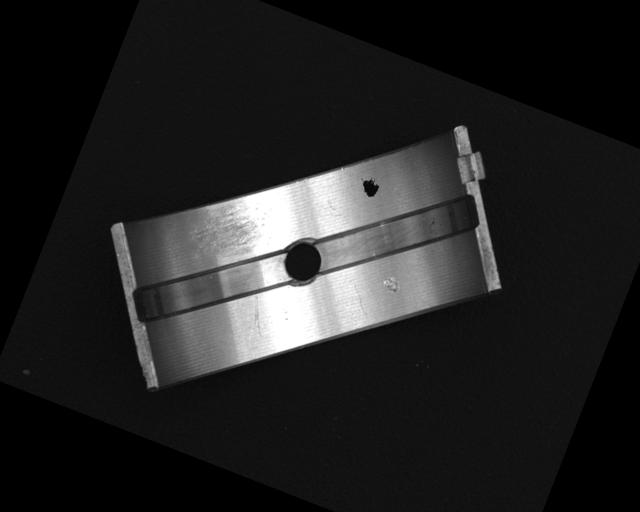blot: (356, 174, 383, 200)
bruise: (379, 272, 404, 295)
gap: (309, 154, 479, 312), (124, 217, 288, 365)
hole: (275, 234, 330, 290)
nick: (240, 292, 274, 342), (343, 281, 376, 315)
scratch: (181, 178, 281, 273)
